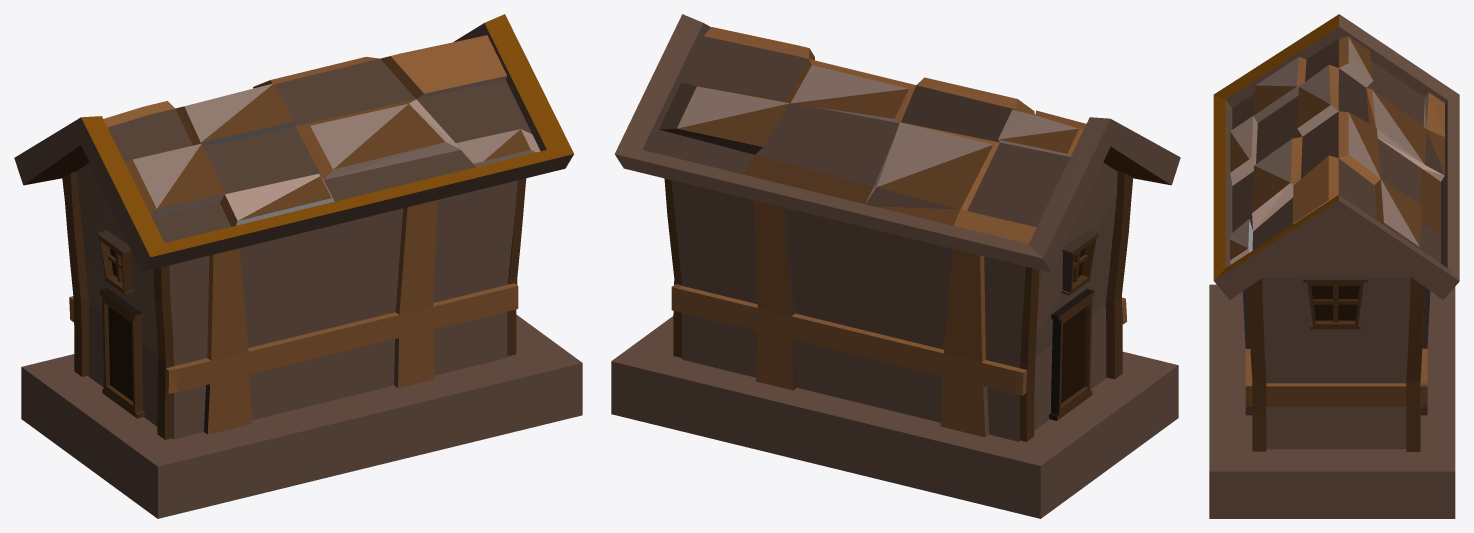
Rendered from House.fbx.
3 views of the same model, side by side, from view 1: azimuth 30°, elevation 25°; view 2: azimuth 150°, elevation 25°; view 3: azimuth 270°, elevation 25° (orthographic). The views are drawn at different scales.
Parts seen in each view (by area): view 1: pasted__House; view 2: pasted__House; view 3: pasted__House.
Boxes of the visible parts, left/top/right/bottom form: pasted__House: left=14, top=14, right=582, bottom=518; pasted__House: left=611, top=14, right=1180, bottom=518; pasted__House: left=1209, top=14, right=1459, bottom=518.
Size of the model in its own units: 97.08 by 75.6 by 54.36.
